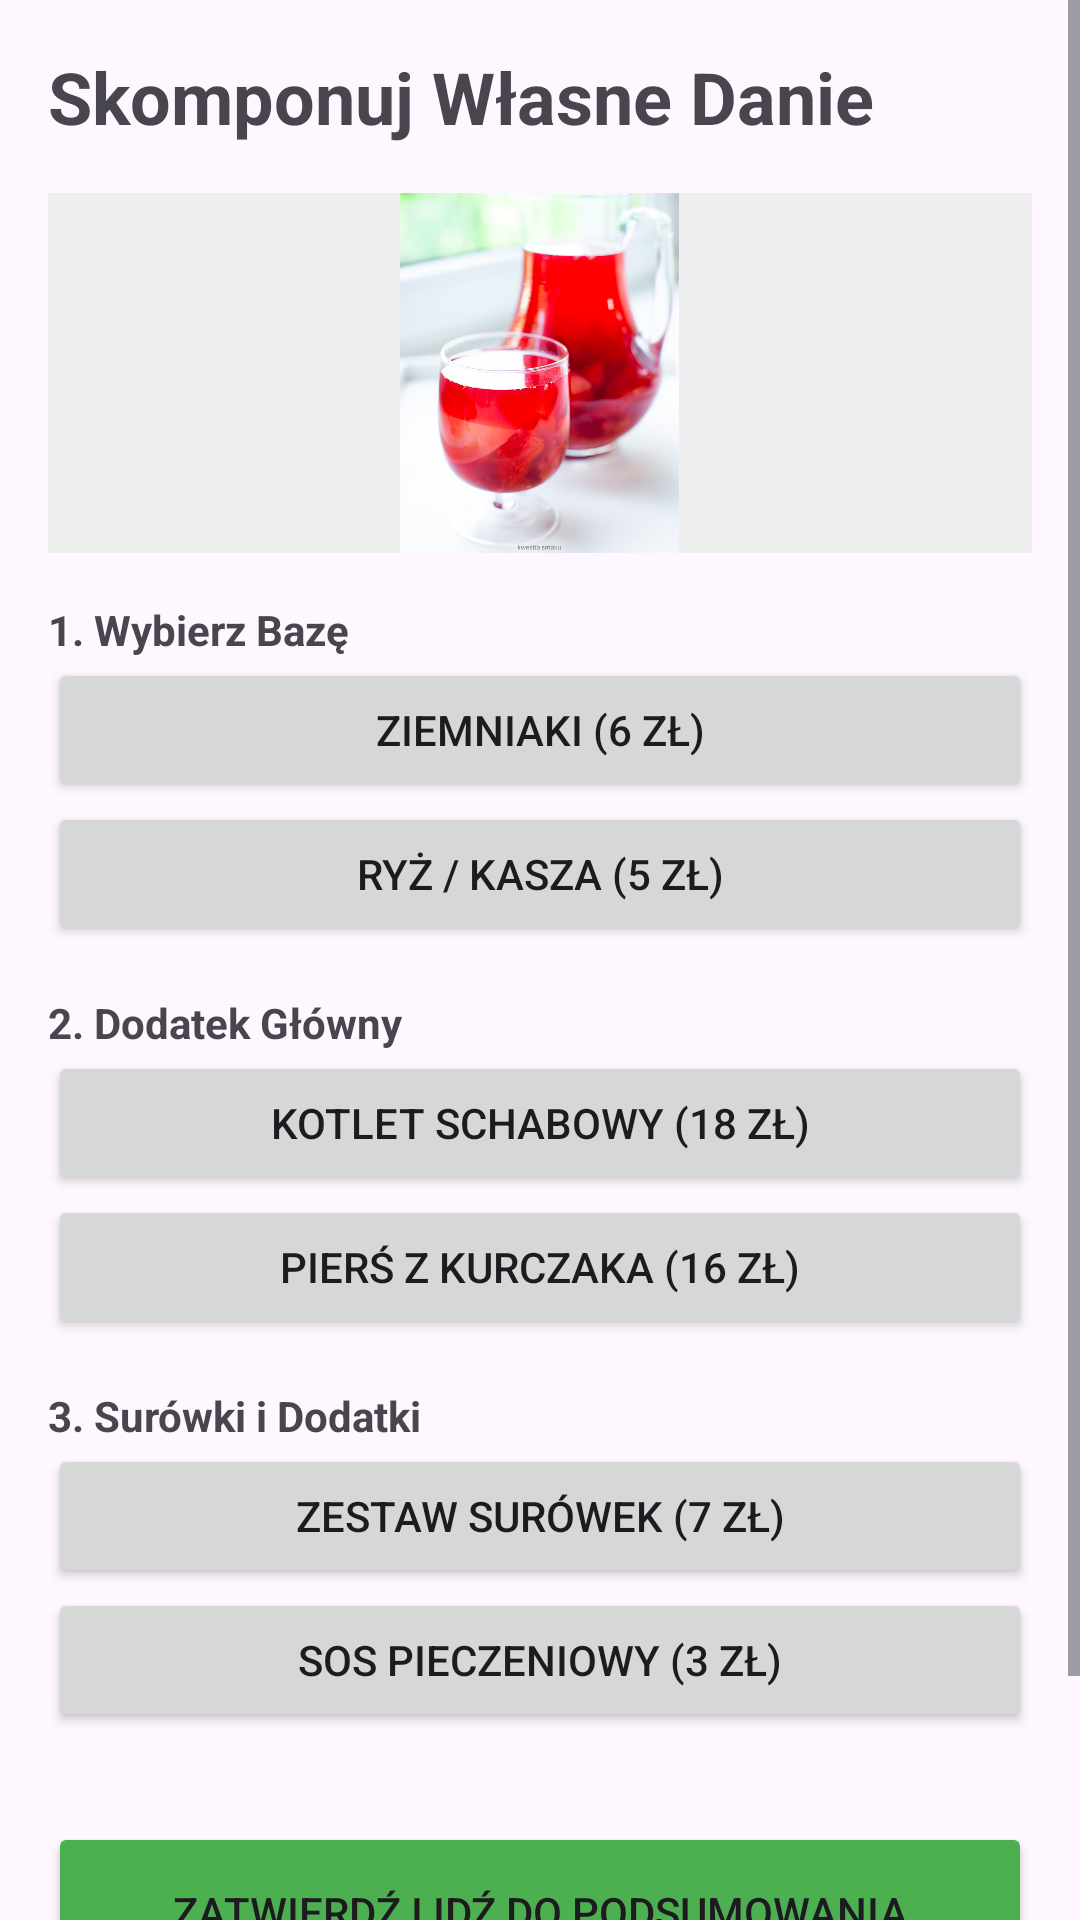

Screen size 1080x1920. Icon name, then its box in pixels as bbox(x1, y1, x2, y2):
kompot: bbox(400, 193, 679, 553)
